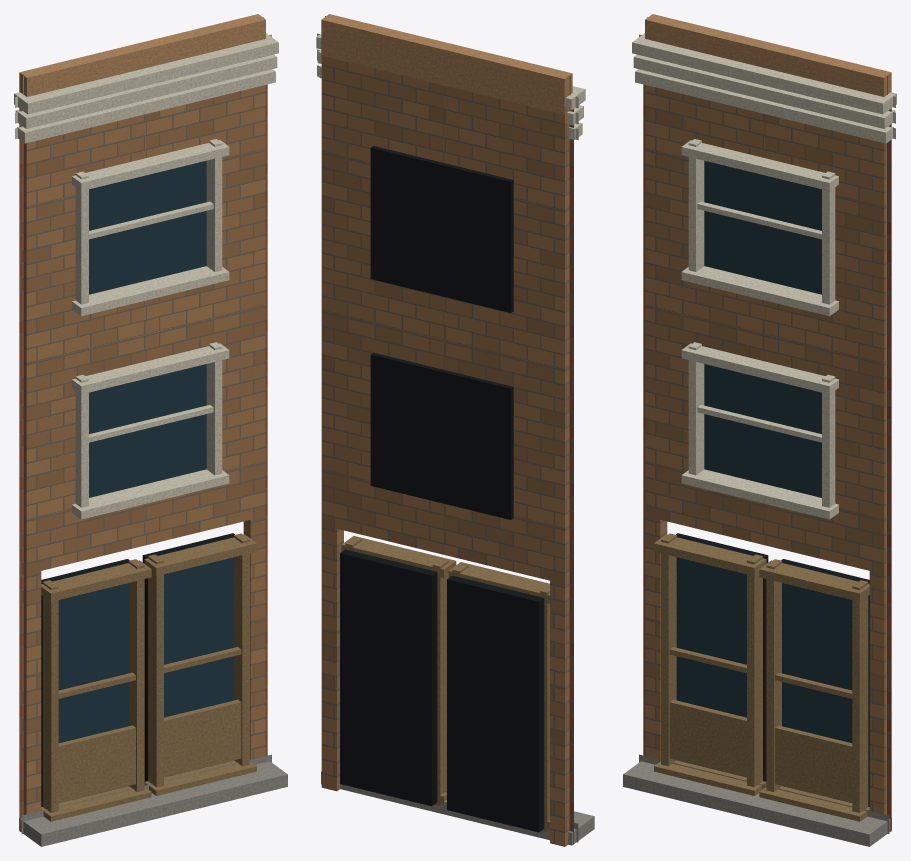
The model's file is OFFC10_lod2.glb.
3 renders of one model, left to right at view 1: azimuth 30°, elevation 25°; view 2: azimuth 150°, elevation 25°; view 3: azimuth 330°, elevation 25°, orthographic.
Visible parts, largest first — view 1: OFFC10_FRONT_LOD2; view 2: OFFC10_FRONT_LOD2; view 3: OFFC10_FRONT_LOD2.
Boxes of the visible parts, bbox=[...] form: OFFC10_FRONT_LOD2: bbox=[14, 14, 287, 846]; OFFC10_FRONT_LOD2: bbox=[316, 14, 594, 846]; OFFC10_FRONT_LOD2: bbox=[623, 14, 896, 846].
Bounding box in the file's own units: 3.44 × 9.66 × 0.68.
9 materials, 7 textured.
